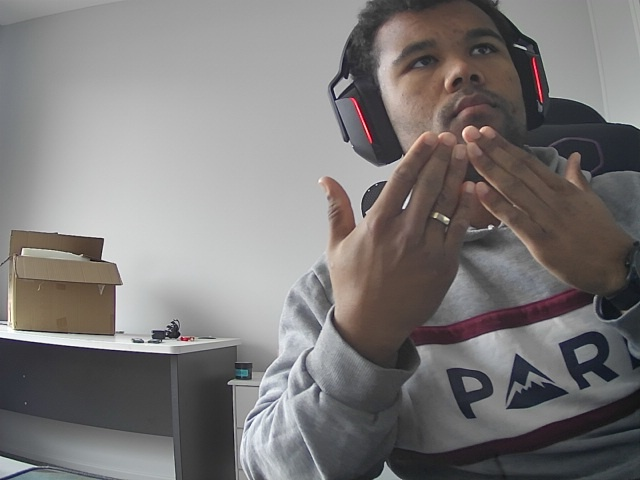ThankYou: (286, 113, 640, 333)
